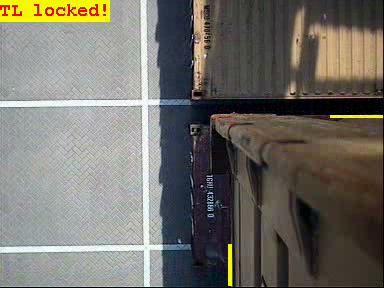groundmarker_2: (17, 107, 125, 189)
